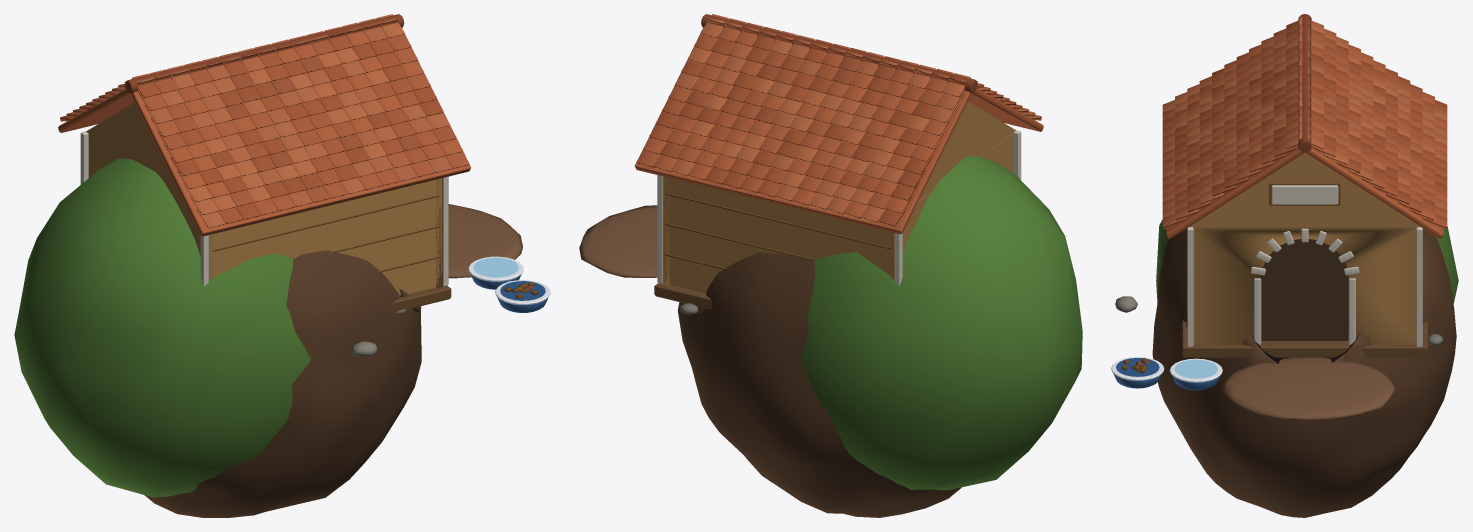
File: fauna.glb
The picture shows the model from 3 angles, left to right: view 1: azimuth 30°, elevation 25°; view 2: azimuth 150°, elevation 25°; view 3: azimuth 270°, elevation 25°; orthographic projection. The views are drawn at different scales.
Parts seen in each view (by area): view 1: den, kennel; view 2: den, kennel; view 3: kennel, den.
Part boxes in pixels (box(x1,y1,x2,y2)): den: box(14, 158, 522, 517); kennel: box(58, 14, 550, 312); den: box(579, 155, 1082, 517); kennel: box(635, 14, 1043, 309); kennel: box(1111, 14, 1447, 390); den: box(1115, 220, 1458, 517).
Size of the model in its own units: 2.51 by 2.3 by 1.66.
